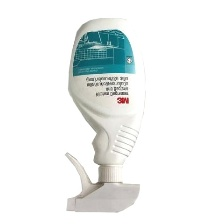cleaning_solution: (60, 13, 149, 217)
